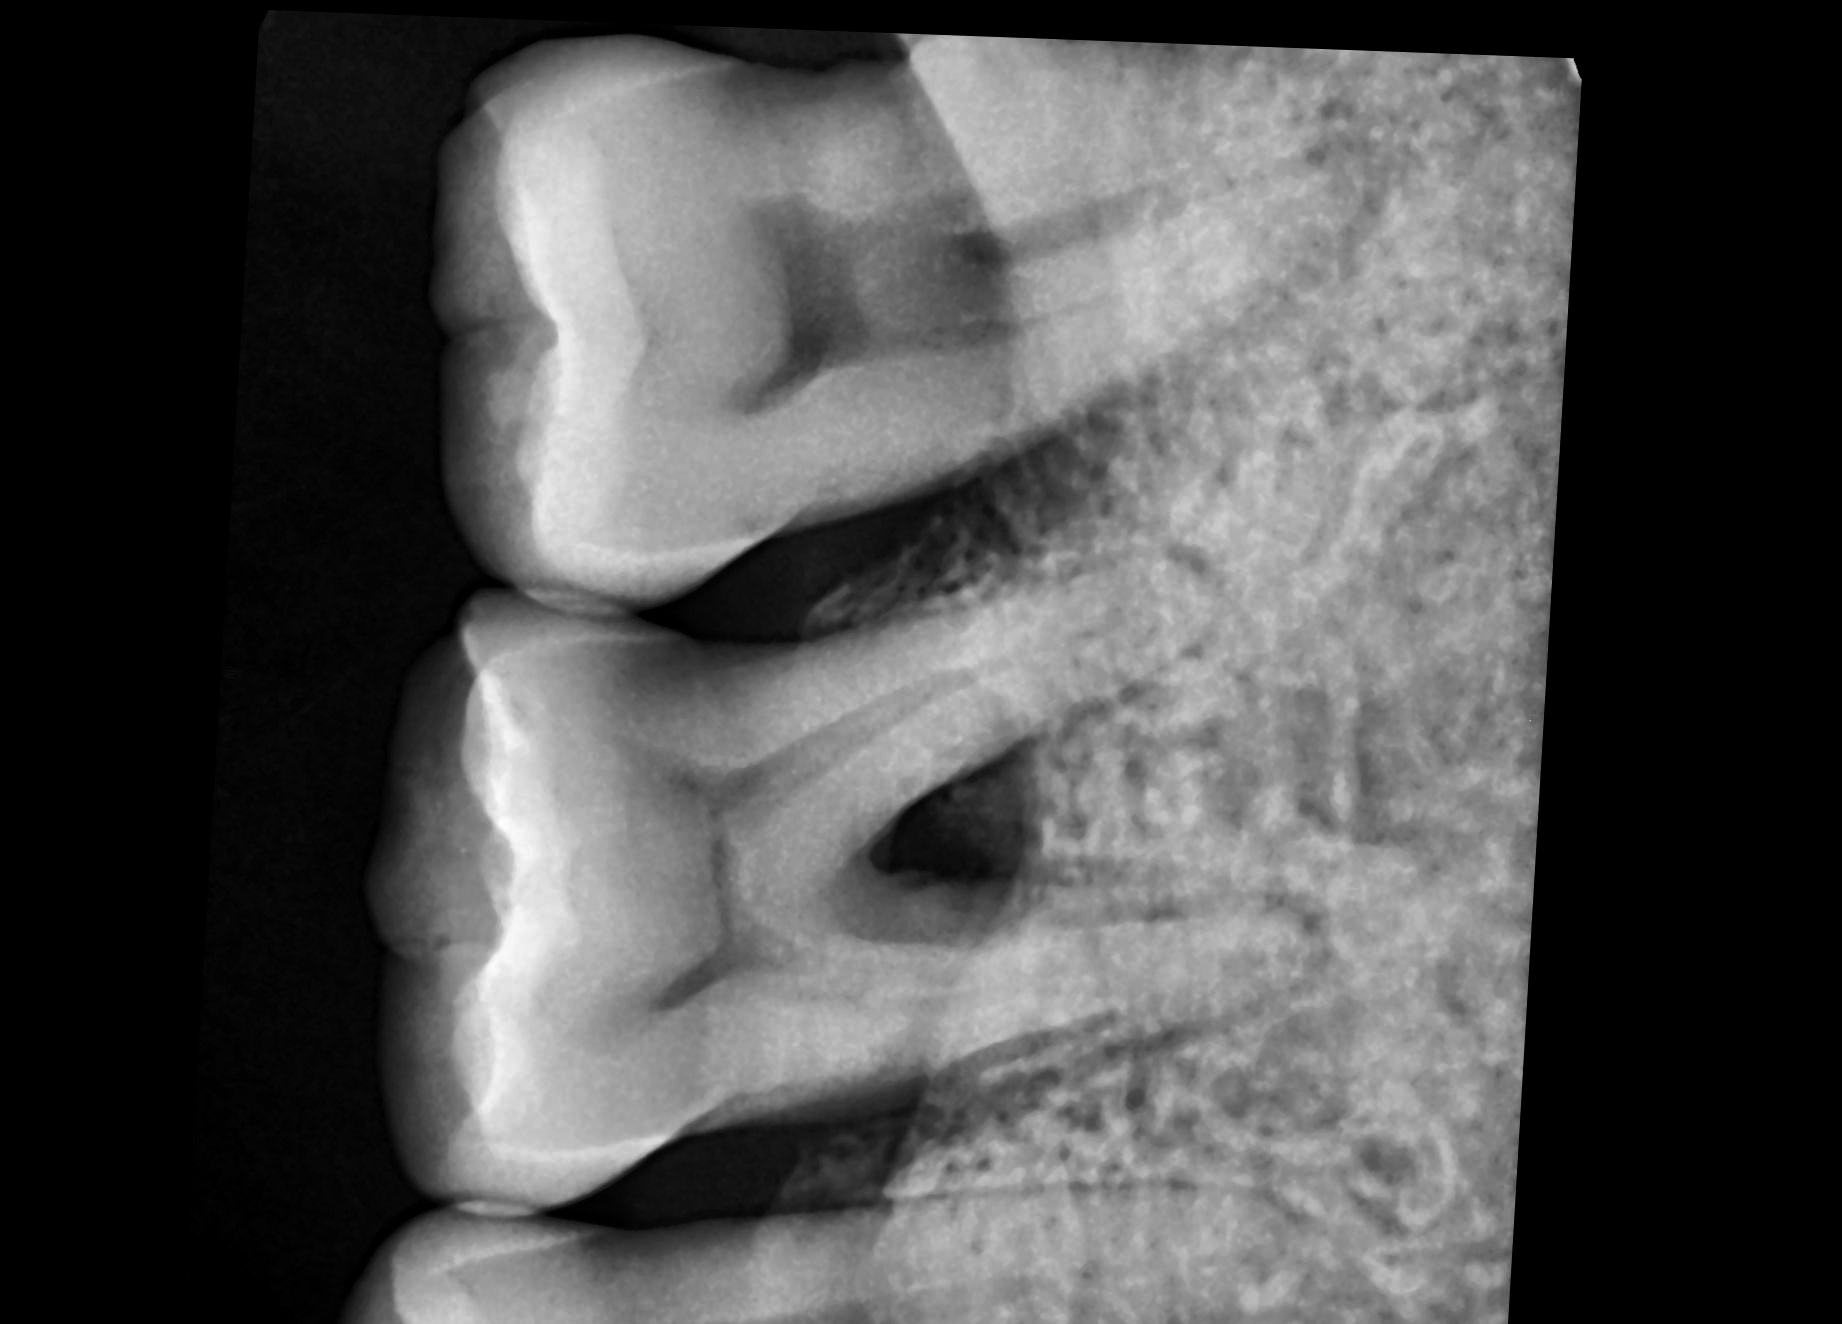Individual Tooth: (377, 569, 1318, 1205), (433, 27, 1320, 602), (357, 1176, 1331, 1324)
